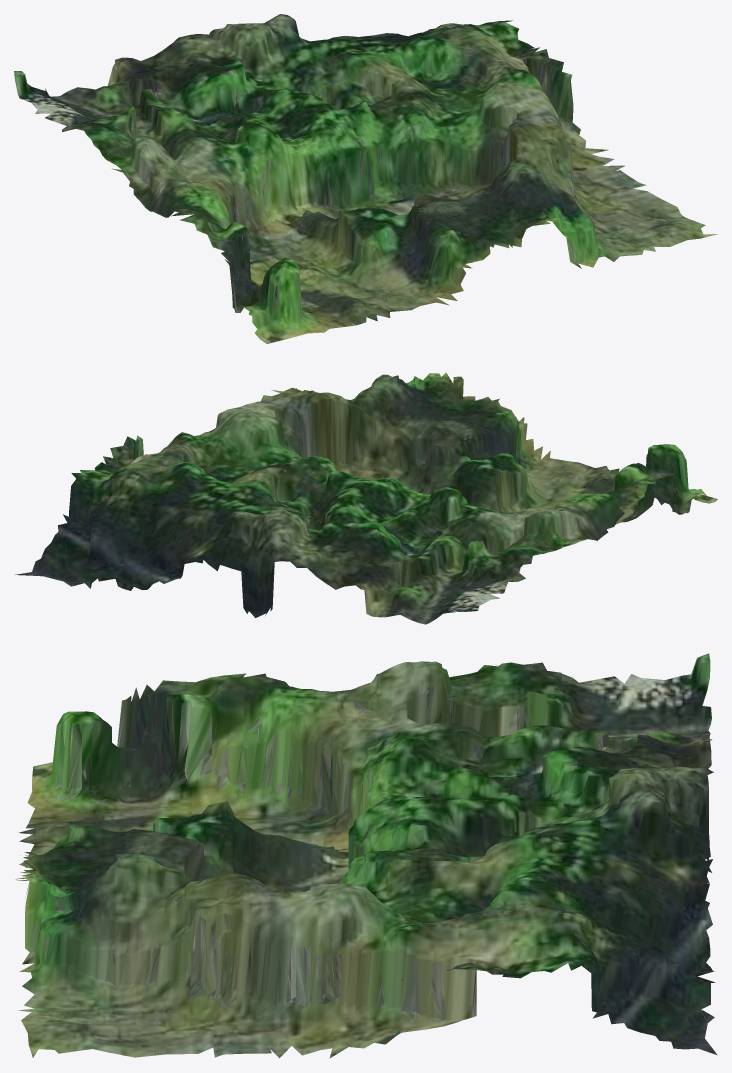
Rendered from Tile_002_001_L14_322.glb.
The picture shows the model from 3 angles, top to bottom: view 1: azimuth 30°, elevation 25°; view 2: azimuth 150°, elevation 25°; view 3: azimuth 270°, elevation 25°; orthographic projection. The views are drawn at different scales.
Visible parts, largest first — view 1: rtc; view 2: rtc; view 3: rtc.
Boxes of the visible parts, x1,y1,x2,y2 form: rtc: [14, 14, 717, 343]; rtc: [15, 372, 717, 624]; rtc: [15, 653, 717, 1058].
Size of the model in its own units: 70.89 by 15.16 by 70.36.
1 material, 1 textured.
